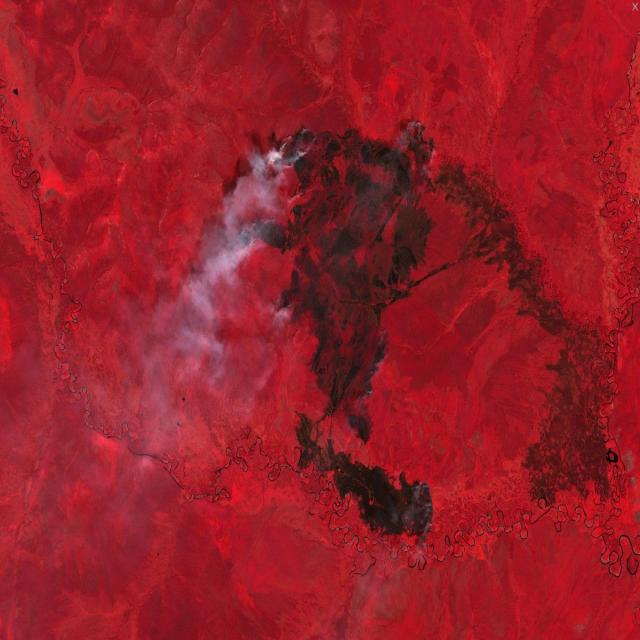fire: (235, 120, 313, 316), (359, 322, 394, 442), (396, 113, 436, 177), (410, 475, 439, 552)
